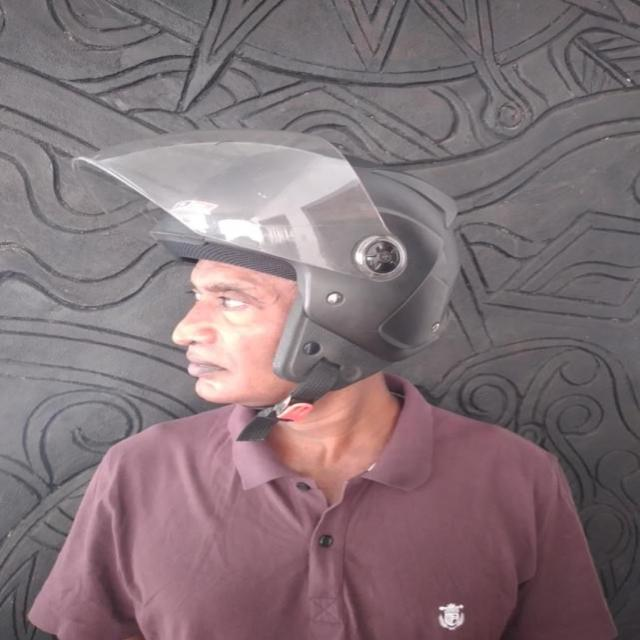With Helmet: (70, 128, 459, 389)
